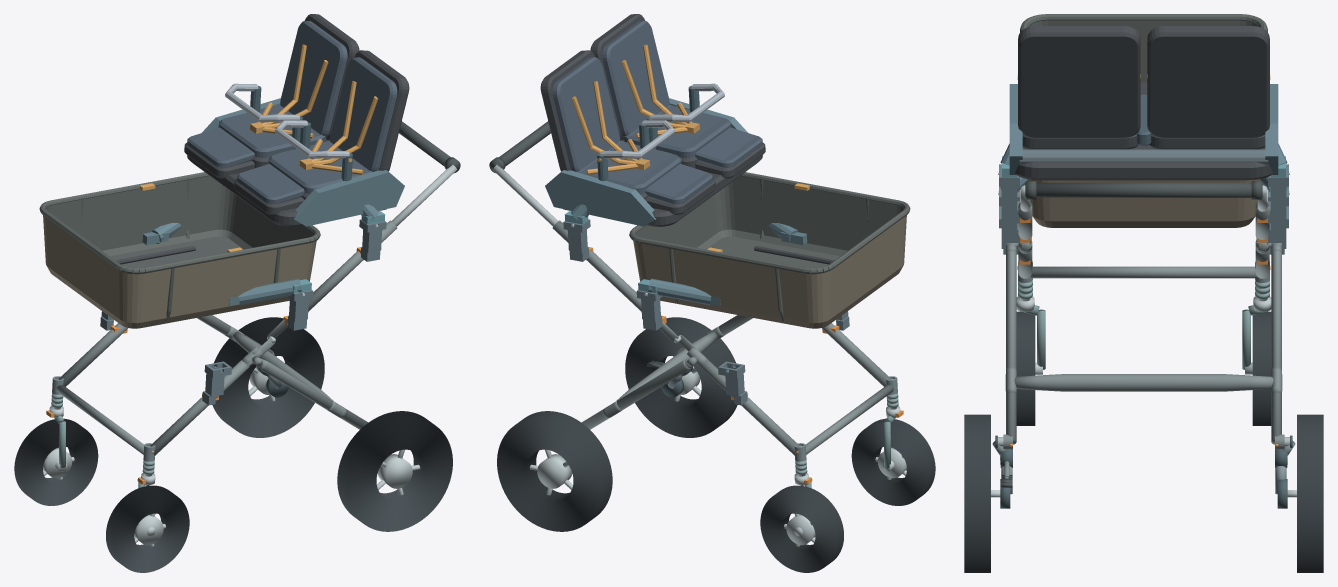
File: D28_w650_state1_wheel_L.glb
The picture shows the model from 3 angles, left to right: view 1: azimuth 30°, elevation 25°; view 2: azimuth 150°, elevation 25°; view 3: azimuth 270°, elevation 25°; orthographic projection. The views are drawn at different scales.
Visible parts, largest first — view 1: D28_Lower, D28_Upper, RL_tire.008, RR_tire.008, FL_tire.008, FR_tire.008, D28_Lower_Mount_M, V46_rear_leg_-1.009, main_lower_-1.009, front_fixed_round_tube.008, main_upper_-1.009, main_lower_1.009 (+8 smaller); view 2: D28_Lower, D28_Upper, RR_tire.008, RL_tire.008, FR_tire.008, FL_tire.008, D28_Lower_Mount_M, V46_rear_leg_1.009, main_lower_1.009, front_fixed_round_tube.008, main_upper_1.009, main_lower_-1.009 (+8 smaller); view 3: D28_Upper, D28_Lower, V46_rearbar.009, RL_tire.008, RR_tire.008, round_handle.008, front_fixed_round_tube.008, FL_tire.008, FR_tire.008, V46_rear_leg_1.009, V46_rear_leg_-1.009, Universal_Cabin_Receiver_H_1 (+6 smaller).
Part boxes in pixels (<box>): D28_Lower: <box>39,172,320,328</box>; D28_Upper: <box>184,14,409,226</box>; RL_tire.008: <box>337,411,452,531</box>; RR_tire.008: <box>212,317,324,437</box>; FL_tire.008: <box>106,485,189,572</box>; FR_tire.008: <box>14,418,98,505</box>; D28_Lower_Mount_M: <box>142,223,311,305</box>; V46_rear_leg_-1.009: <box>259,360,368,429</box>; main_lower_-1.009: <box>150,360,252,455</box>; front_fixed_round_tube.008: <box>56,385,144,454</box>; main_upper_-1.009: <box>308,220,397,311</box>; main_lower_1.009: <box>58,323,127,386</box>; D28_Lower: <box>629,172,910,328</box>; D28_Upper: <box>540,14,765,226</box>; RR_tire.008: <box>497,411,612,531</box>; RL_tire.008: <box>625,317,737,437</box>; FR_tire.008: <box>760,485,843,572</box>; FL_tire.008: <box>851,418,935,505</box>; D28_Lower_Mount_M: <box>638,223,807,305</box>; V46_rear_leg_1.009: <box>581,360,690,429</box>; main_lower_1.009: <box>697,360,799,455</box>; front_fixed_round_tube.008: <box>805,385,893,454</box>; main_upper_1.009: <box>552,220,641,311</box>; main_lower_-1.009: <box>822,323,891,386</box>; D28_Upper: <box>1009,26,1278,180</box>; D28_Lower: <box>1020,14,1267,227</box>; V46_rearbar.009: <box>1014,374,1273,391</box>; RL_tire.008: <box>964,414,990,572</box>; RR_tire.008: <box>1297,414,1323,572</box>; round_handle.008: <box>1025,183,1262,197</box>; front_fixed_round_tube.008: <box>1030,266,1257,278</box>; FL_tire.008: <box>1016,311,1035,425</box>; FR_tire.008: <box>1252,311,1271,425</box>; V46_rear_leg_1.009: <box>1271,249,1281,444</box>; V46_rear_leg_-1.009: <box>1006,249,1016,444</box>; Universal_Cabin_Receiver_H_1: <box>1268,164,1288,223</box>.
Size of the model in its own units: 1.2 by 1.39 by 0.8171.
